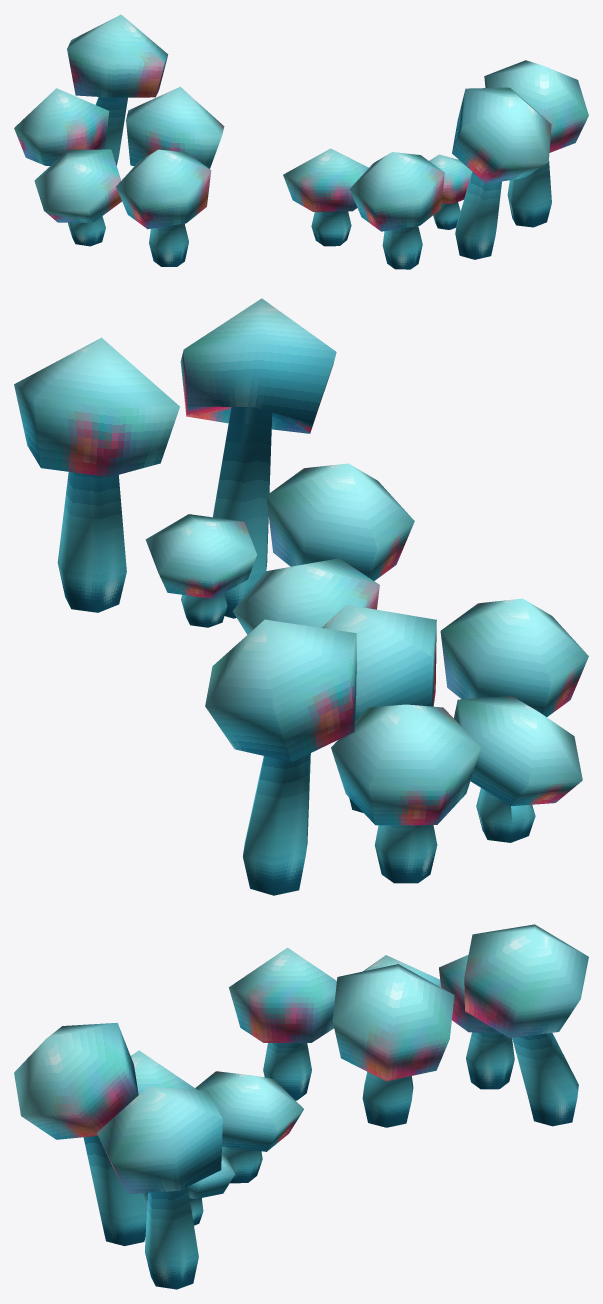
File: n_SWFgomush03.glb
3 renders of one model, top to bottom at view 1: azimuth 30°, elevation 25°; view 2: azimuth 150°, elevation 25°; view 3: azimuth 270°, elevation 25°, orthographic. The views are drawn at different scales.
Parts seen in each view (by area): view 1: n_SWFgomush03; view 2: n_SWFgomush03; view 3: n_SWFgomush03.
Part boxes in pixels (x1,y1,x2,y2): n_SWFgomush03: (14,14,588,269); n_SWFgomush03: (14,298,588,895); n_SWFgomush03: (14,924,588,1289).
Bounding box in the file's own units: 1.68 × 0.6096 × 1.53.
1 material, 1 textured.
